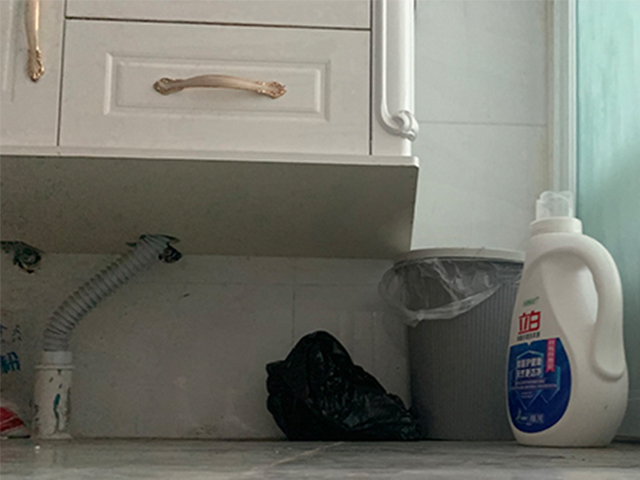trashcan: (393, 247, 523, 442)
